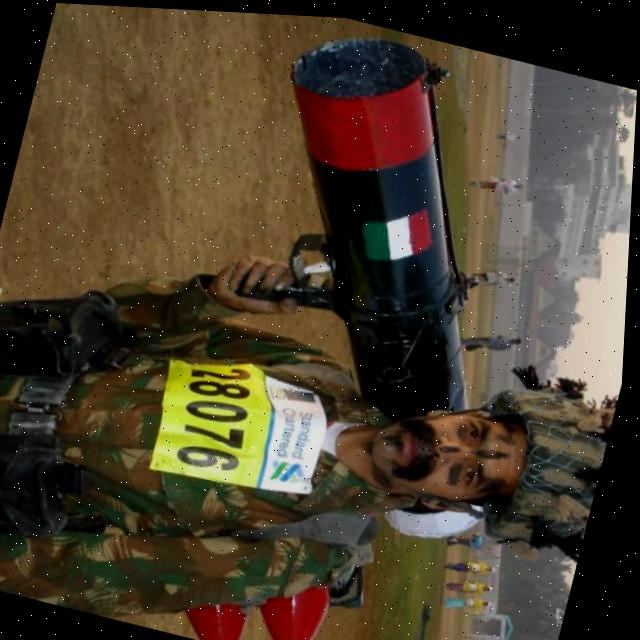rocket: (202, 9, 571, 444)
